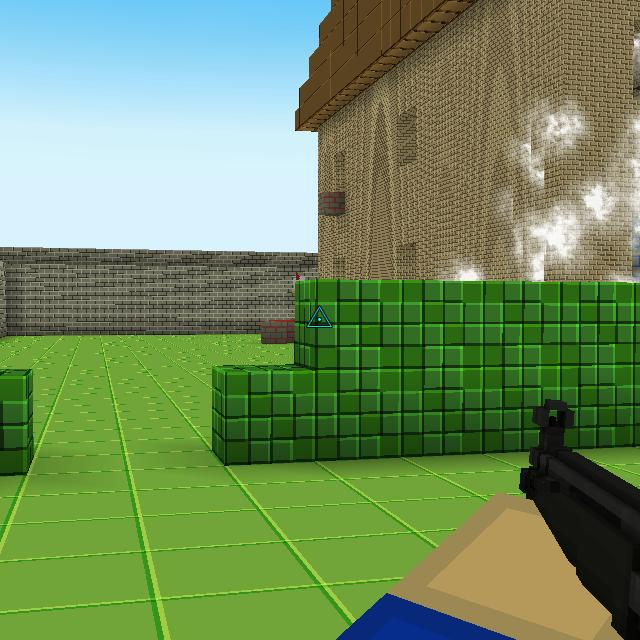enemy: (292, 273, 306, 293)
